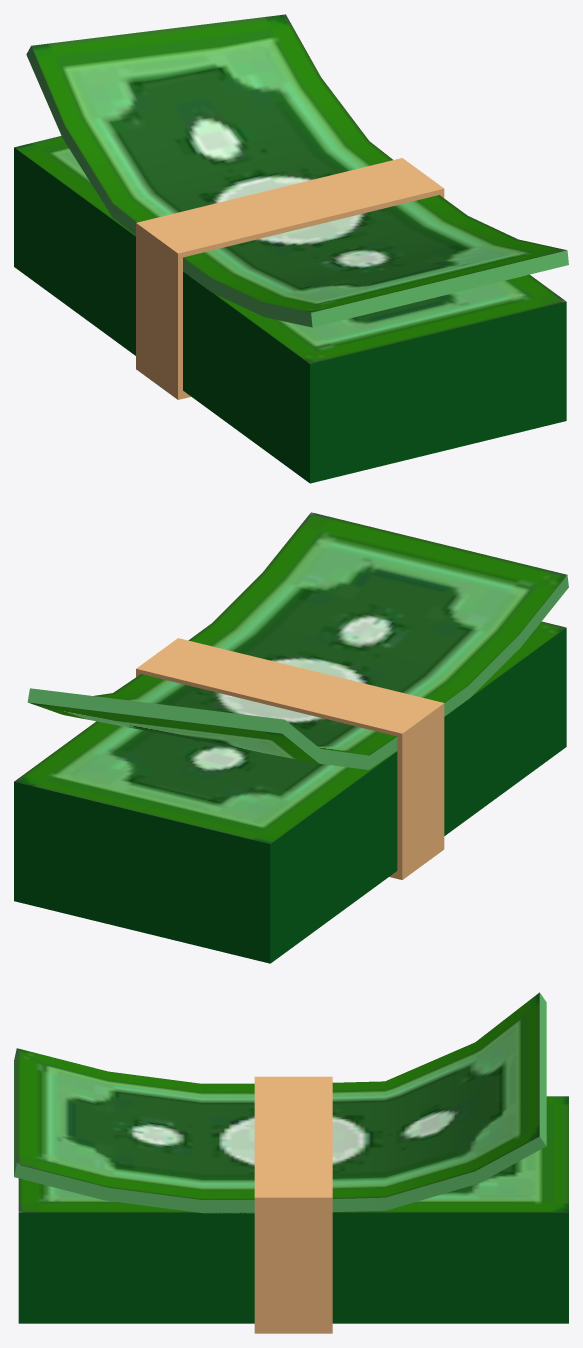
The model's file is bills.fbx.
3 views of the same model, one above another, from view 1: azimuth 30°, elevation 25°; view 2: azimuth 150°, elevation 25°; view 3: azimuth 270°, elevation 25° (orthographic). The views are drawn at different scales.
Visible parts, largest first — view 1: bills; view 2: bills; view 3: bills.
Part boxes in pixels (x1,y1,x2,y2): bills: [14, 14, 568, 483]; bills: [14, 512, 568, 963]; bills: [14, 992, 568, 1333].
Bounding box in the file's own units: 20.77 × 17.93 × 40.33.
Materials: 1 (1 with a texture image).
